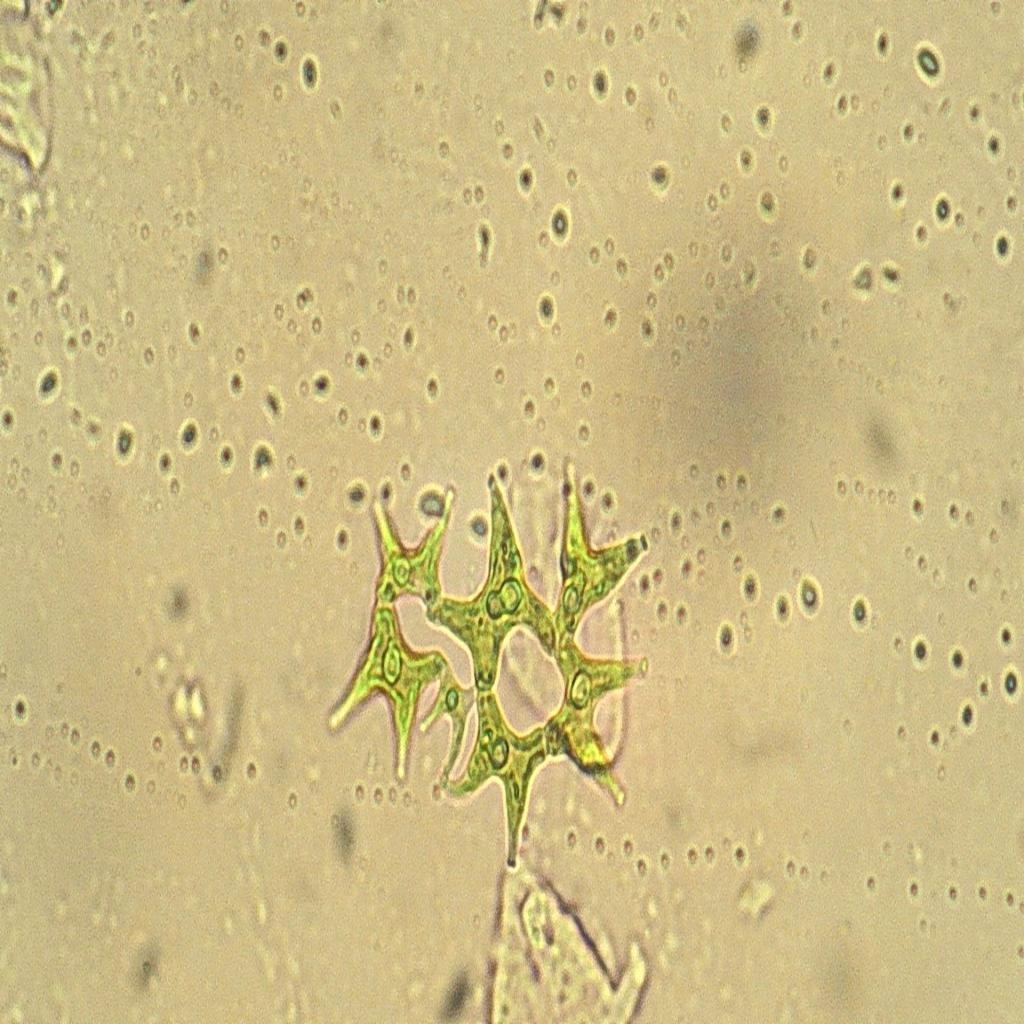Pediastrum_1TH: (318, 426, 678, 882)
